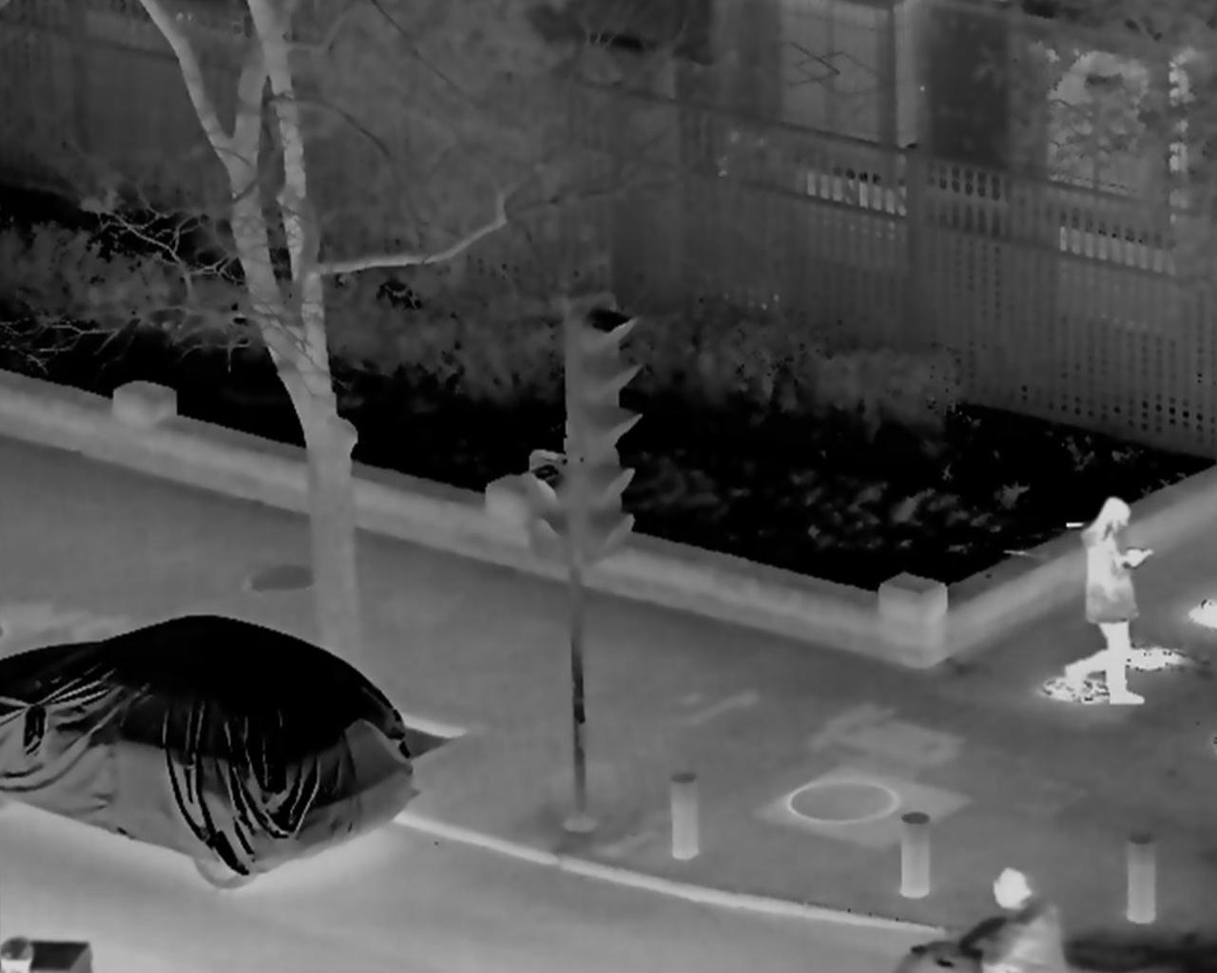person: (1069, 496, 1160, 715), (970, 862, 1062, 973)
